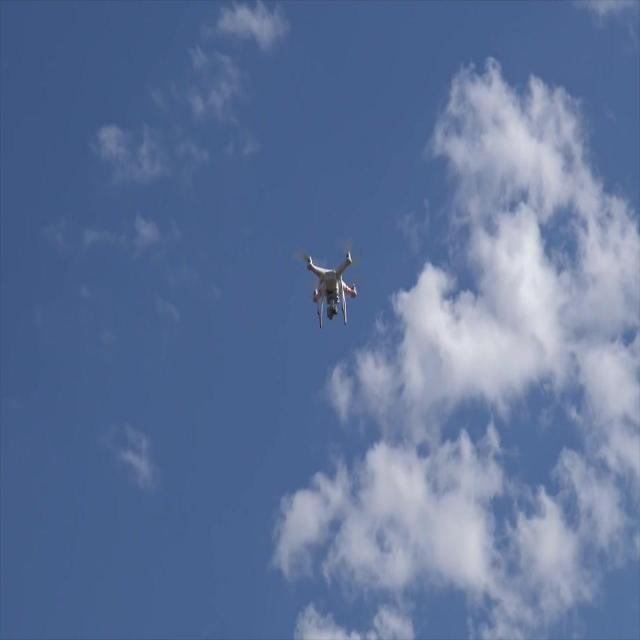UAV: (301, 243, 358, 328)
